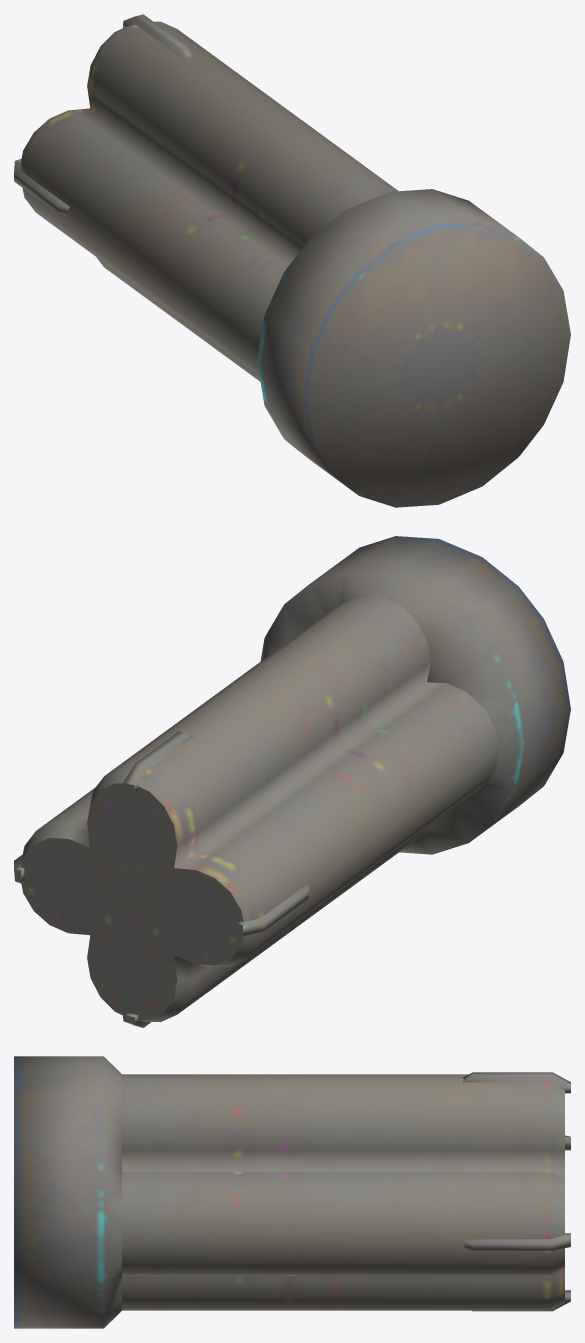
File: barrel5.obj
3 views of the same model, one above another, from view 1: azimuth 30°, elevation 25°; view 2: azimuth 150°, elevation 25°; view 3: azimuth 270°, elevation 25° (orthographic). The views are drawn at different scales.
Parts seen in each view (by area): view 1: barrel5; view 2: barrel5; view 3: barrel5.
Boxes of the visible parts, left/top/right/bottom form: barrel5: left=14, top=14, right=570, bottom=507; barrel5: left=14, top=536, right=570, bottom=1027; barrel5: left=14, top=1056, right=570, bottom=1328.
Size of the model in its own units: 17.55 by 17.57 by 35.76.
